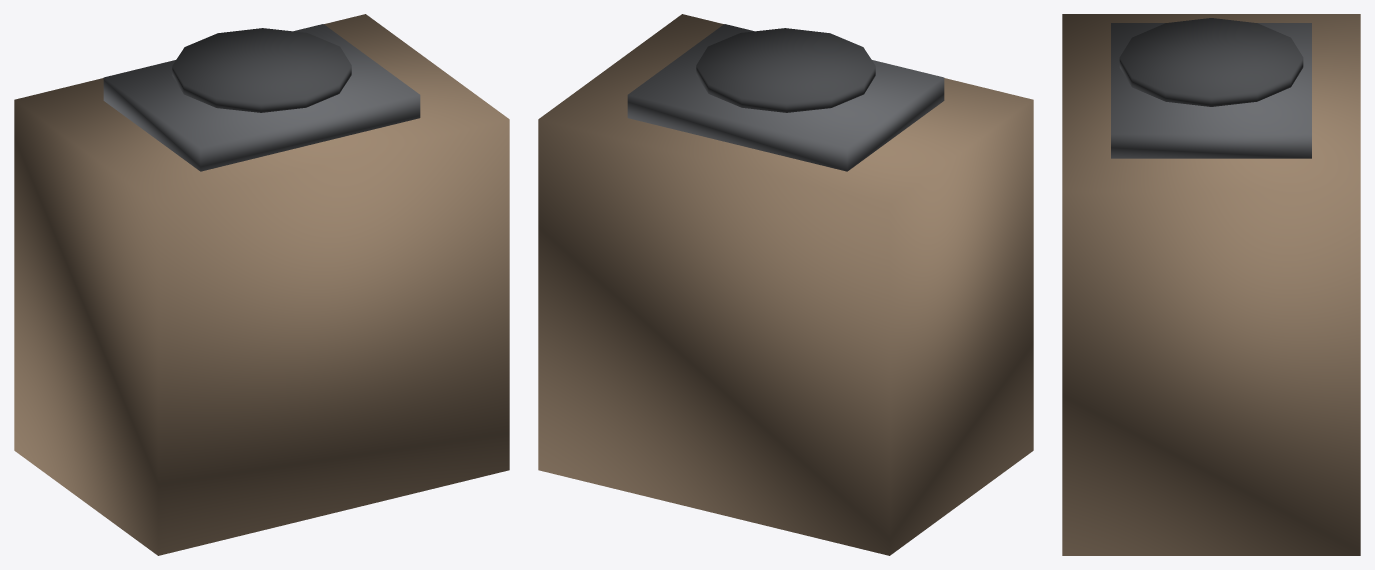
The model's file is record_store_listening_station__squat.glb.
3 views of the same model, side by side, from view 1: azimuth 30°, elevation 25°; view 2: azimuth 150°, elevation 25°; view 3: azimuth 270°, elevation 25° (orthographic). The views are drawn at different scales.
Parts seen in each view (by area): view 1: world; view 2: world; view 3: world.
Part boxes in pixels (x1,y1,x2,y2): world: (14, 14, 509, 555); world: (538, 14, 1033, 555); world: (1062, 14, 1360, 555).
Bounding box in the file's own units: 0.792 × 0.8505 × 0.5616.
